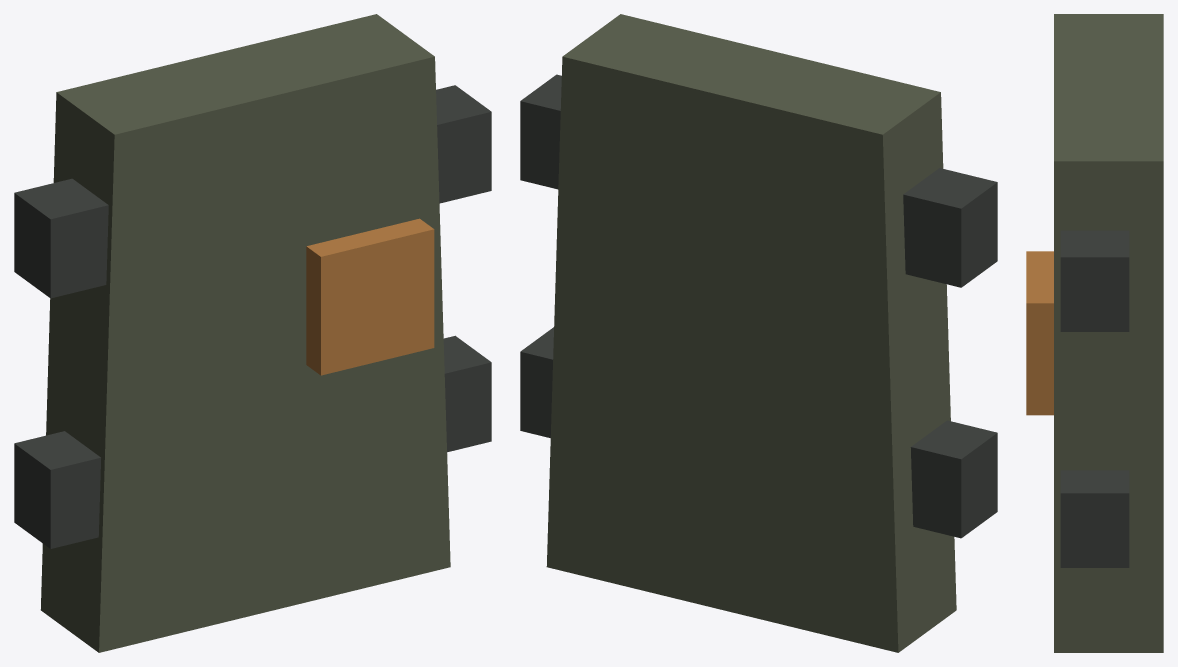
Rendered from item_kit_plate.glb.
The picture shows the model from 3 angles, left to right: view 1: azimuth 30°, elevation 25°; view 2: azimuth 150°, elevation 25°; view 3: azimuth 270°, elevation 25°; orthographic projection. The views are drawn at different scales.
Visible parts, largest first — view 1: plate, stencil, strap_a, strap_b; view 2: plate, strap_a, strap_b; view 3: plate, strap_a, strap_b, stencil.
Boxes of the visible parts, left/top/right/bottom form: plate: left=40, top=14, right=450, bottom=652; stencil: left=306, top=218, right=434, bottom=375; strap_a: left=14, top=85, right=491, bottom=298; strap_b: left=14, top=335, right=491, bottom=548; plate: left=546, top=14, right=956, bottom=652; strap_a: left=520, top=74, right=997, bottom=287; strap_b: left=520, top=327, right=997, bottom=538; plate: left=1054, top=14, right=1163, bottom=652; strap_a: left=1060, top=230, right=1129, bottom=331; strap_b: left=1060, top=470, right=1129, bottom=567; stencil: left=1026, top=251, right=1053, bottom=415.
Bounding box in the file's own units: 0.7 × 0.78 × 0.2.
